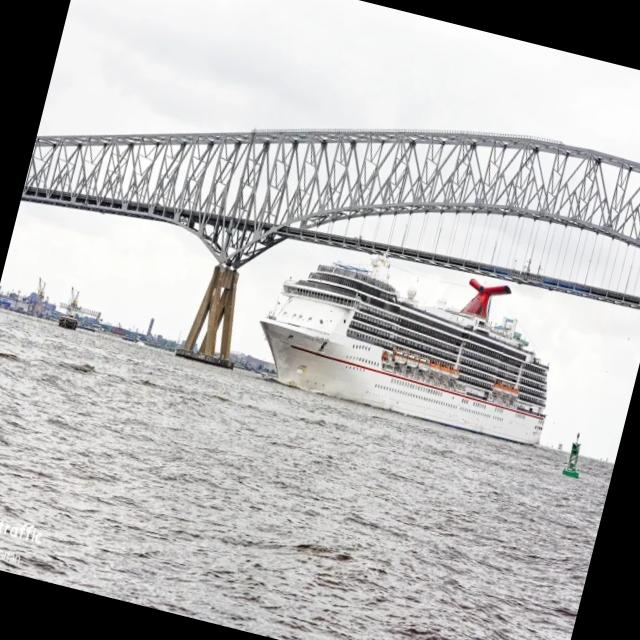Cruise: (260, 257, 547, 444)
